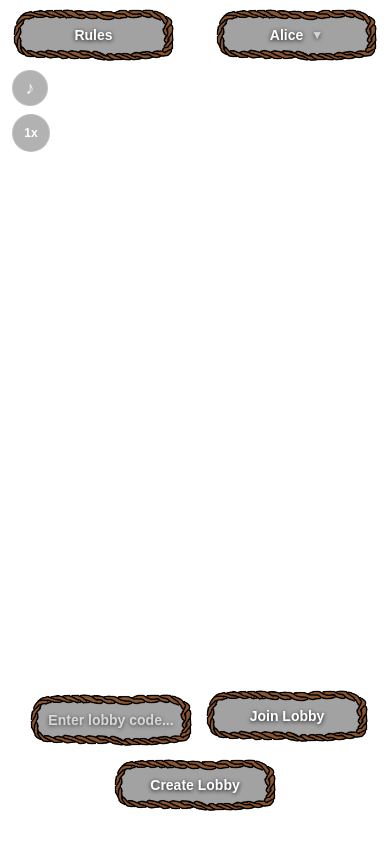
Test case: WorldMapOverlay › opens the user menu and signs out, reverting to the logged-out button
Step 1. Click the button with aria-label "Open user menu" → (296, 35), box [215,8,378,62]
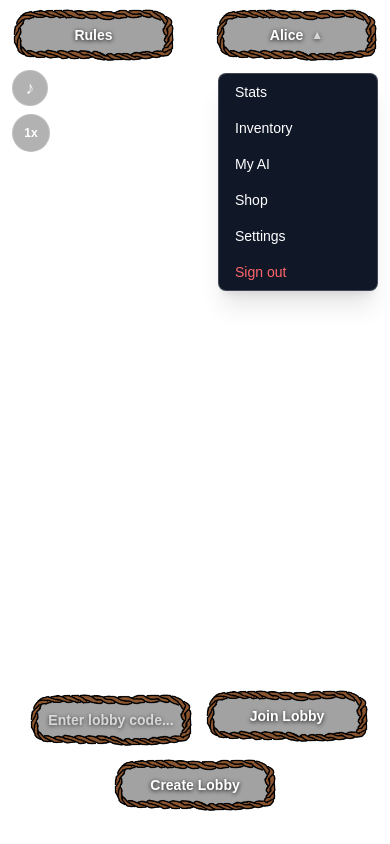
Expected: the button "Sign out" is shown
Step 2. Click the button "Sign out" → (298, 272), box [219,254,377,290]
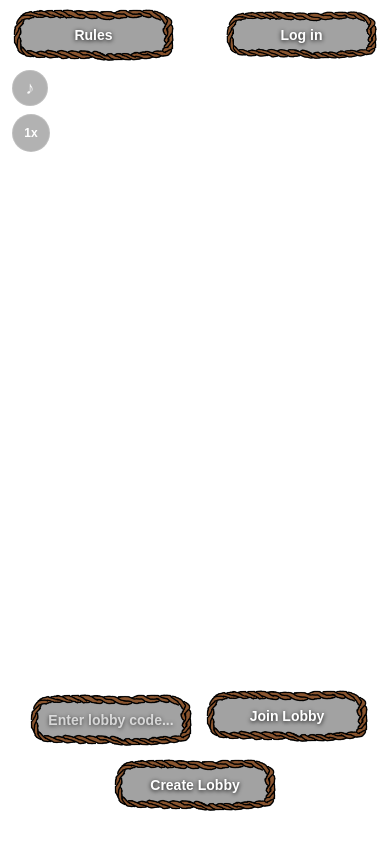
Expected: the button "Log in" is shown, [225,8,378,62]
